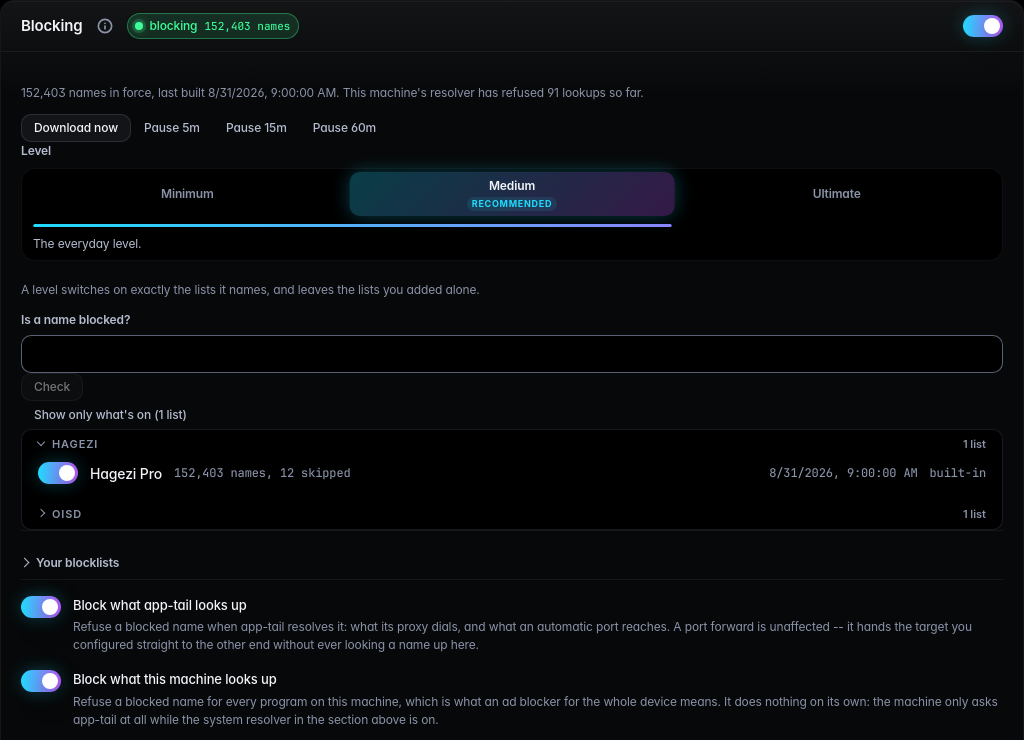
Scenario: pausing and downloading › shows what the agent refused rather than dropping it
Click the button "Download now". click: click(76, 128)
box: [21, 114, 131, 142]
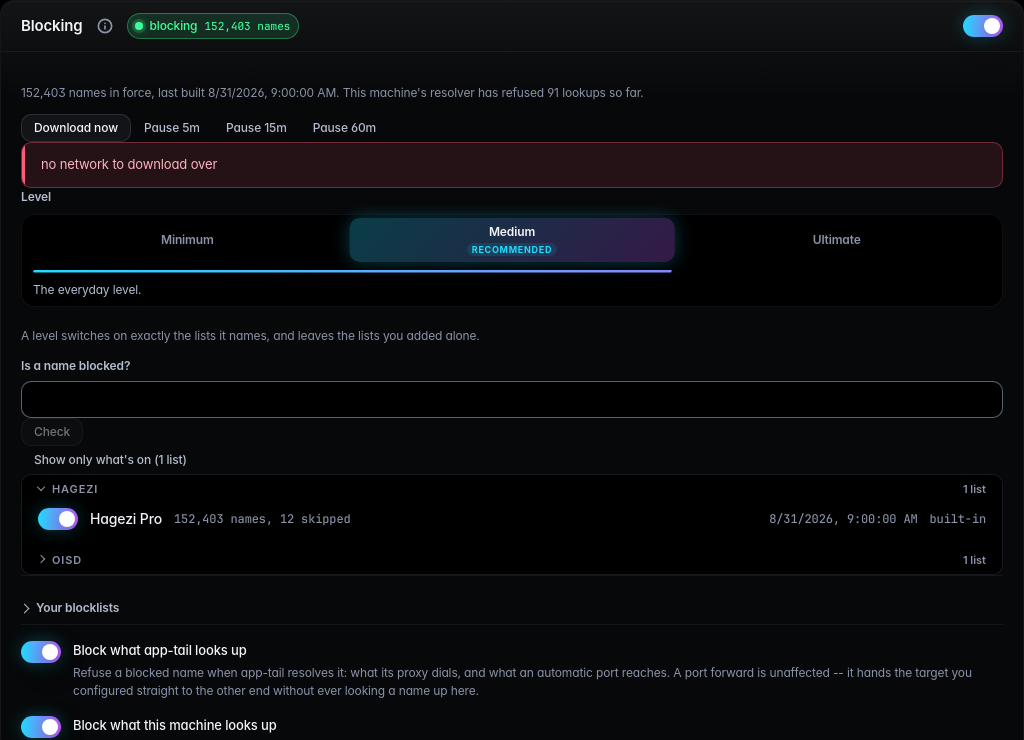
Result: the text "no network to download over" is shown at [21, 142, 1003, 188]
